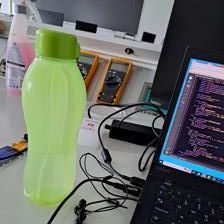bottle: (16, 29, 88, 205)
